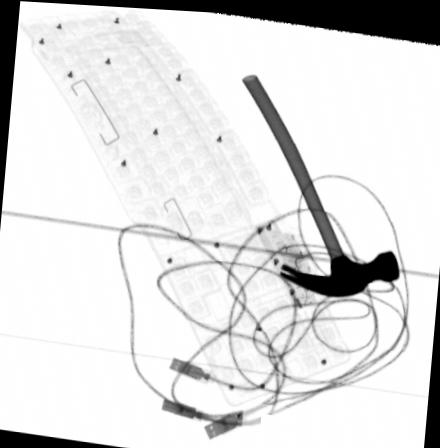Hammer: (239, 70, 400, 294)
